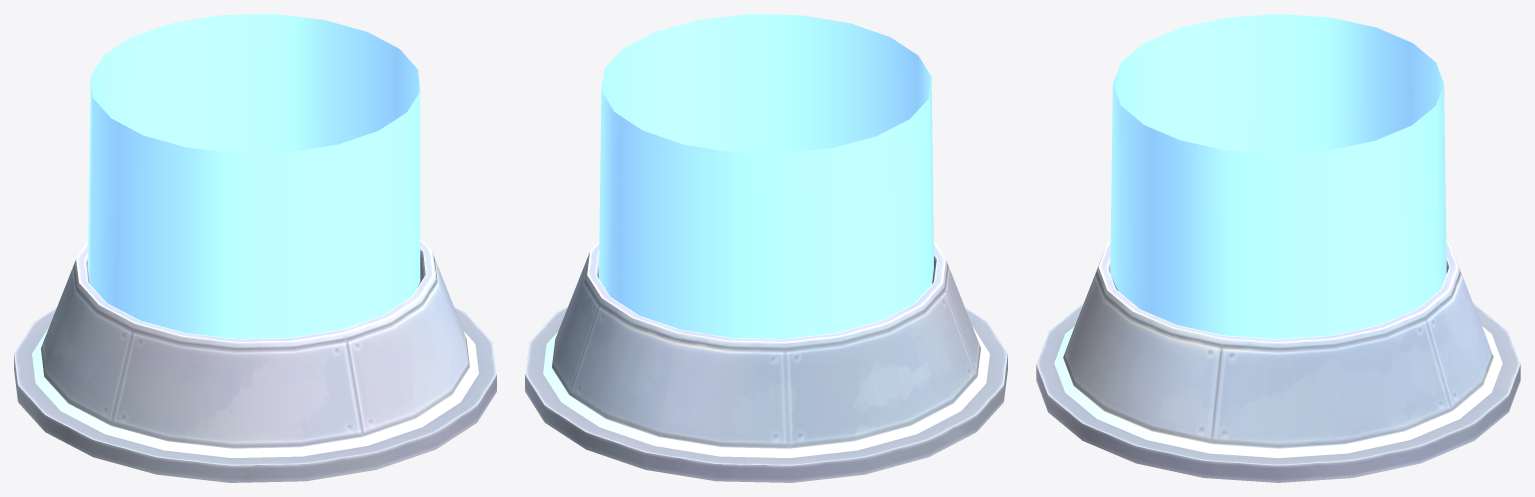
File: obj_podium.gltf
3 views of the same model, side by side, from view 1: azimuth 30°, elevation 25°; view 2: azimuth 150°, elevation 25°; view 3: azimuth 270°, elevation 25° (orthographic).
Visible parts, largest first — view 1: obj_podium; view 2: obj_podium; view 3: obj_podium.
Boxes of the visible parts, x1,y1,x2,y2 form: obj_podium: (14,14,496,482); obj_podium: (525,14,1007,482); obj_podium: (1036,14,1520,482).
Size of what is drawn, in the model's own units: 1.48 by 0.9983 by 1.48.
Materials: 3 (2 with a texture image).
